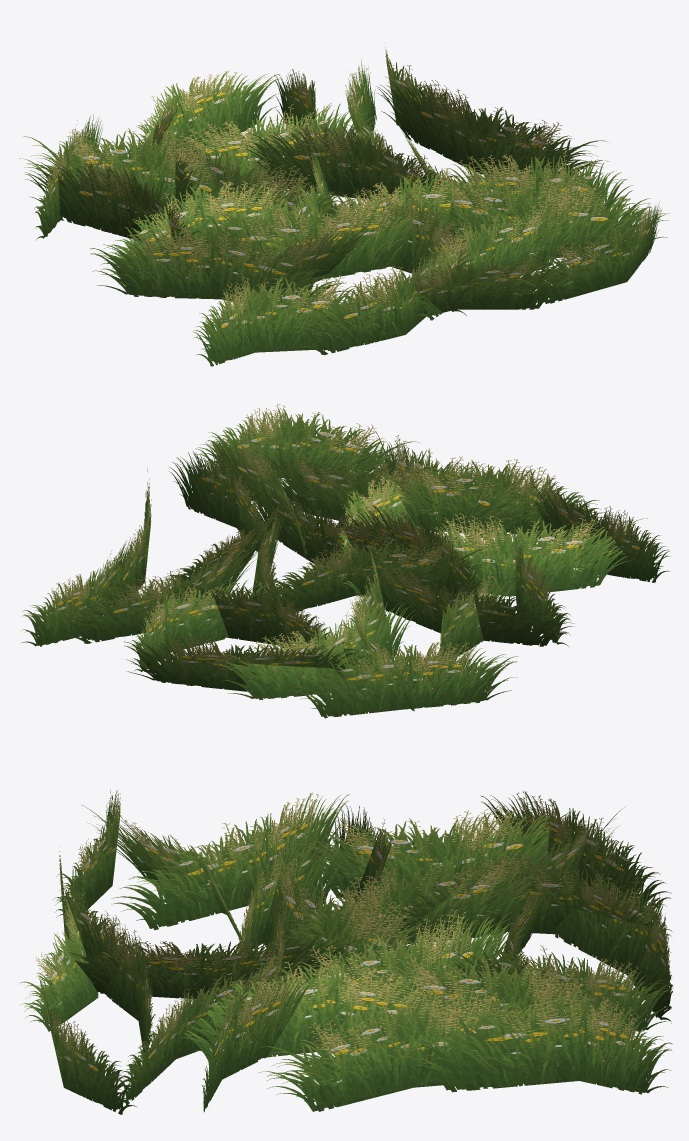
The model's file is meadow_grass_patch.glb.
3 renders of one model, top to bottom at view 1: azimuth 30°, elevation 25°; view 2: azimuth 150°, elevation 25°; view 3: azimuth 270°, elevation 25°, orthographic. The views are drawn at different scales.
Visible parts, largest first — view 1: MeadowGrassPatch; view 2: MeadowGrassPatch; view 3: MeadowGrassPatch.
Boxes of the visible parts, left/top/right/bottom form: MeadowGrassPatch: left=19, top=47, right=669, bottom=366; MeadowGrassPatch: left=21, top=404, right=670, bottom=718; MeadowGrassPatch: left=18, top=790, right=673, bottom=1114.
Bounding box in the file's own units: 5 × 0.7937 × 5.
Materials: 1 (1 with a texture image).
